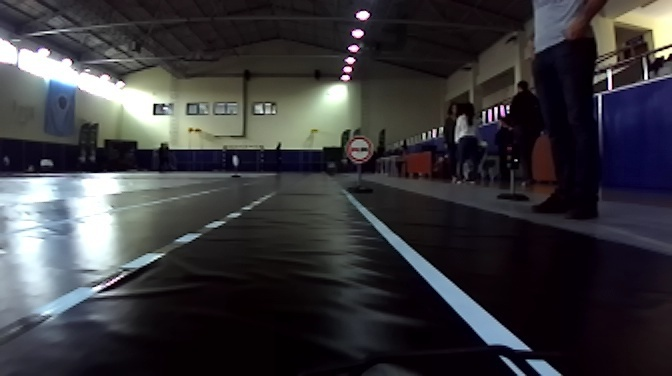sollama_yasak: (345, 137, 372, 165)
